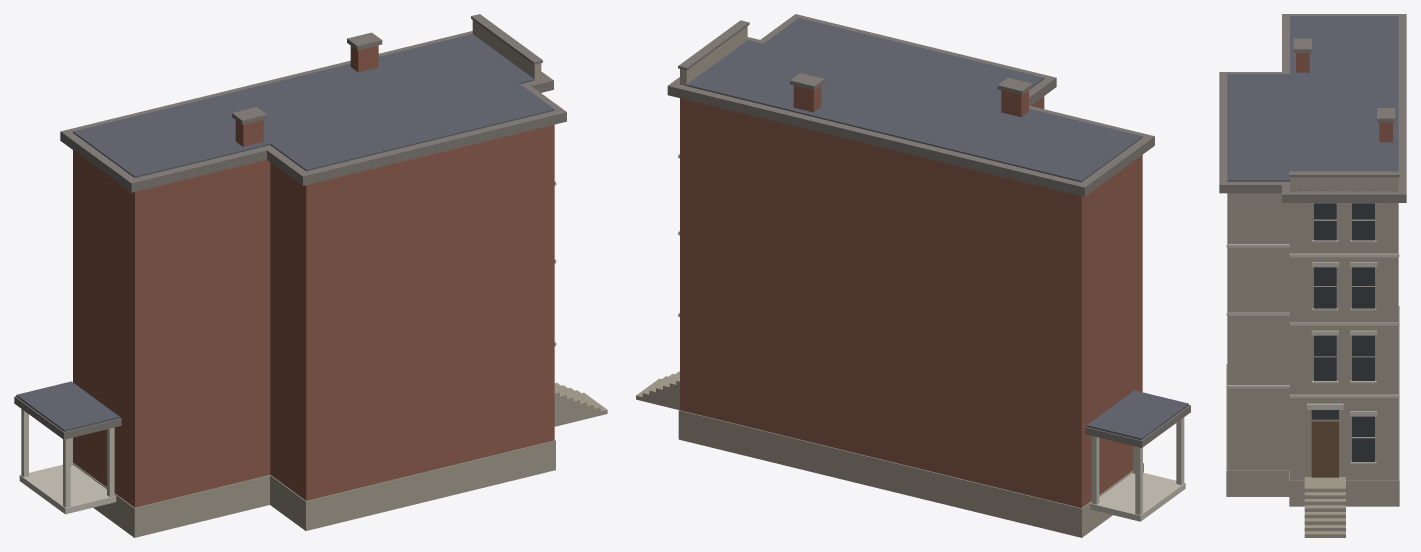
Rendered from house_1619_prairie__draft_1904.glb.
3 views of the same model, side by side, from view 1: azimuth 30°, elevation 25°; view 2: azimuth 150°, elevation 25°; view 3: azimuth 270°, elevation 25° (orthographic). The views are drawn at different scales.
Visible parts, largest first — view 1: house_1619_prairie__draft_1904; view 2: house_1619_prairie__draft_1904; view 3: house_1619_prairie__draft_1904.
Part boxes in pixels (<box>): house_1619_prairie__draft_1904: <box>14,14,607,537</box>; house_1619_prairie__draft_1904: <box>636,14,1190,537</box>; house_1619_prairie__draft_1904: <box>1219,14,1406,537</box>.
Size of the model in its own units: 23.95 by 16.44 by 8.2.
